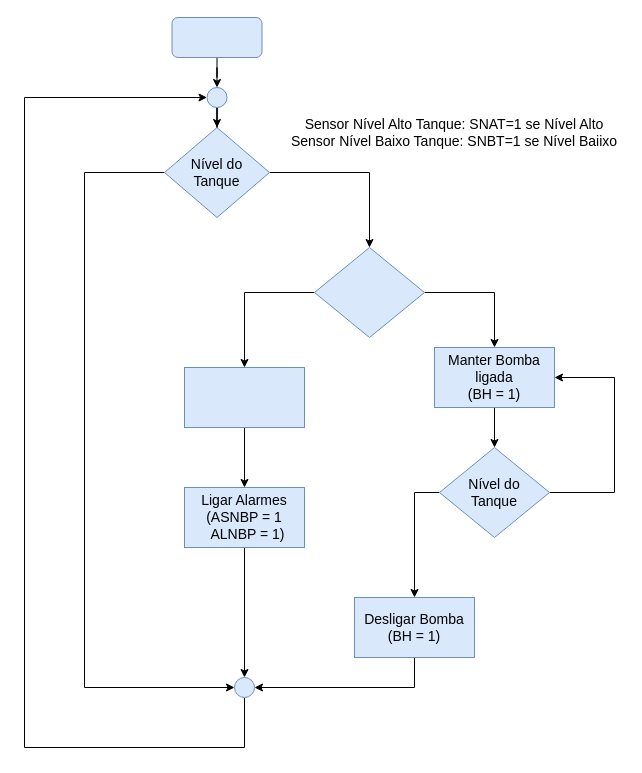
Image size: 642x773. Some labels were removed from this diagram. Each missing label, with the centre of its shape:
Há água no poço?: the point at 369,292
Início: the point at 216,37
Manter bomba desligada (BH = 0): the point at 244,397
